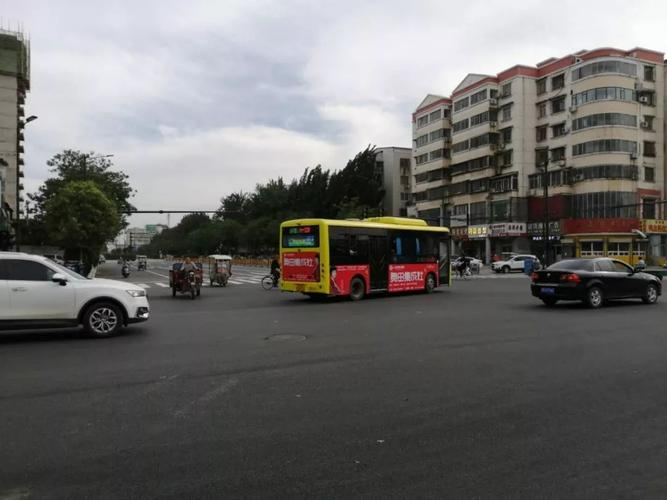bus: (272, 217, 451, 300), (207, 255, 232, 288)
car: (1, 251, 152, 339), (529, 258, 664, 309), (490, 255, 540, 274)
motorcycle: (170, 276, 202, 299)
person: (179, 255, 197, 285), (264, 262, 280, 290), (453, 257, 468, 277), (468, 257, 482, 276)
